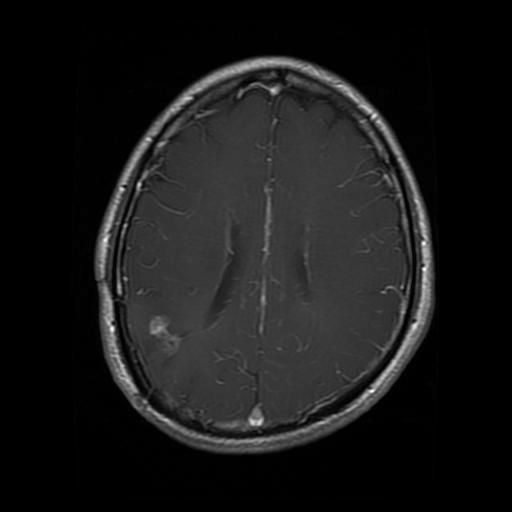Tumour-Glioma: (142, 308, 204, 365)
